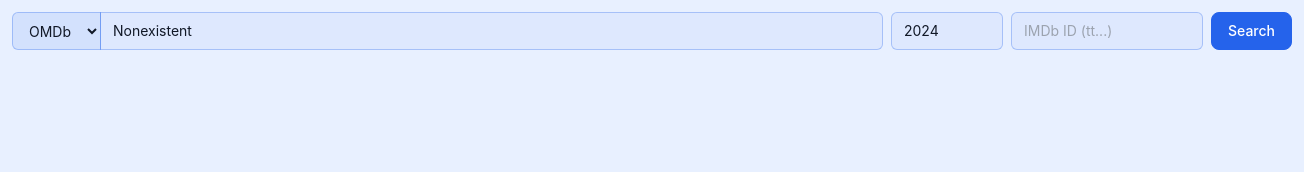
Test: TitleSearch › interactions › shows no results message
Click the button "Search".
click(1252, 31)  # box [1211, 12, 1292, 50]
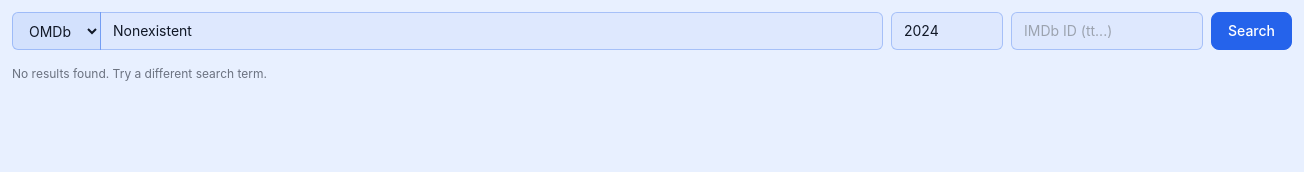
Expected: the text "No results found. Try a different search term." is shown, [12, 66, 267, 82]
